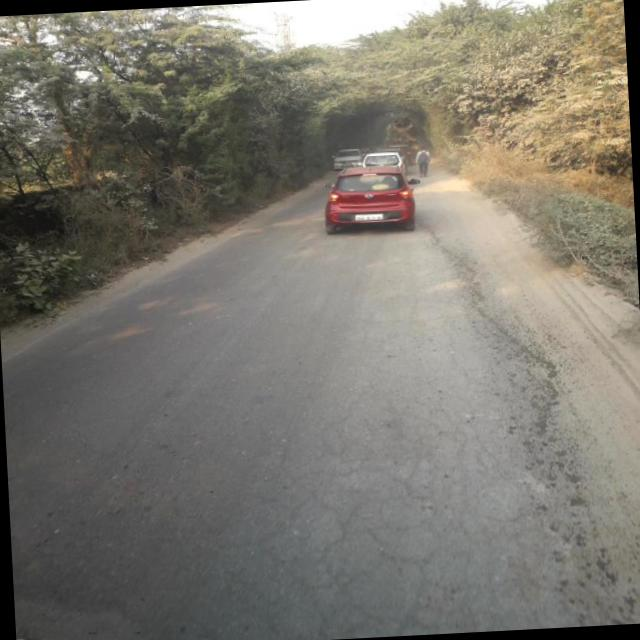crack: (184, 237, 560, 636)
